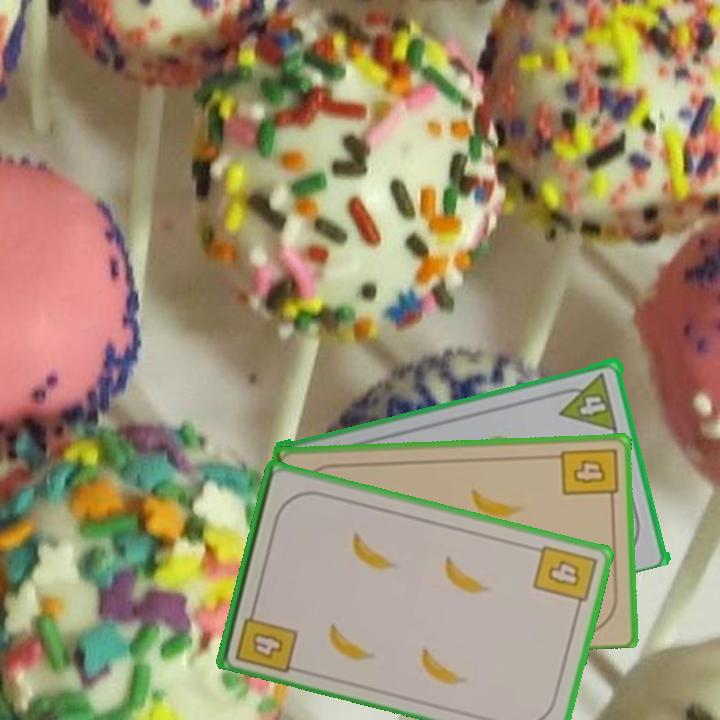4b: (529, 541, 600, 614), (232, 600, 300, 675), (558, 444, 620, 507)
4p: (553, 368, 620, 433)
